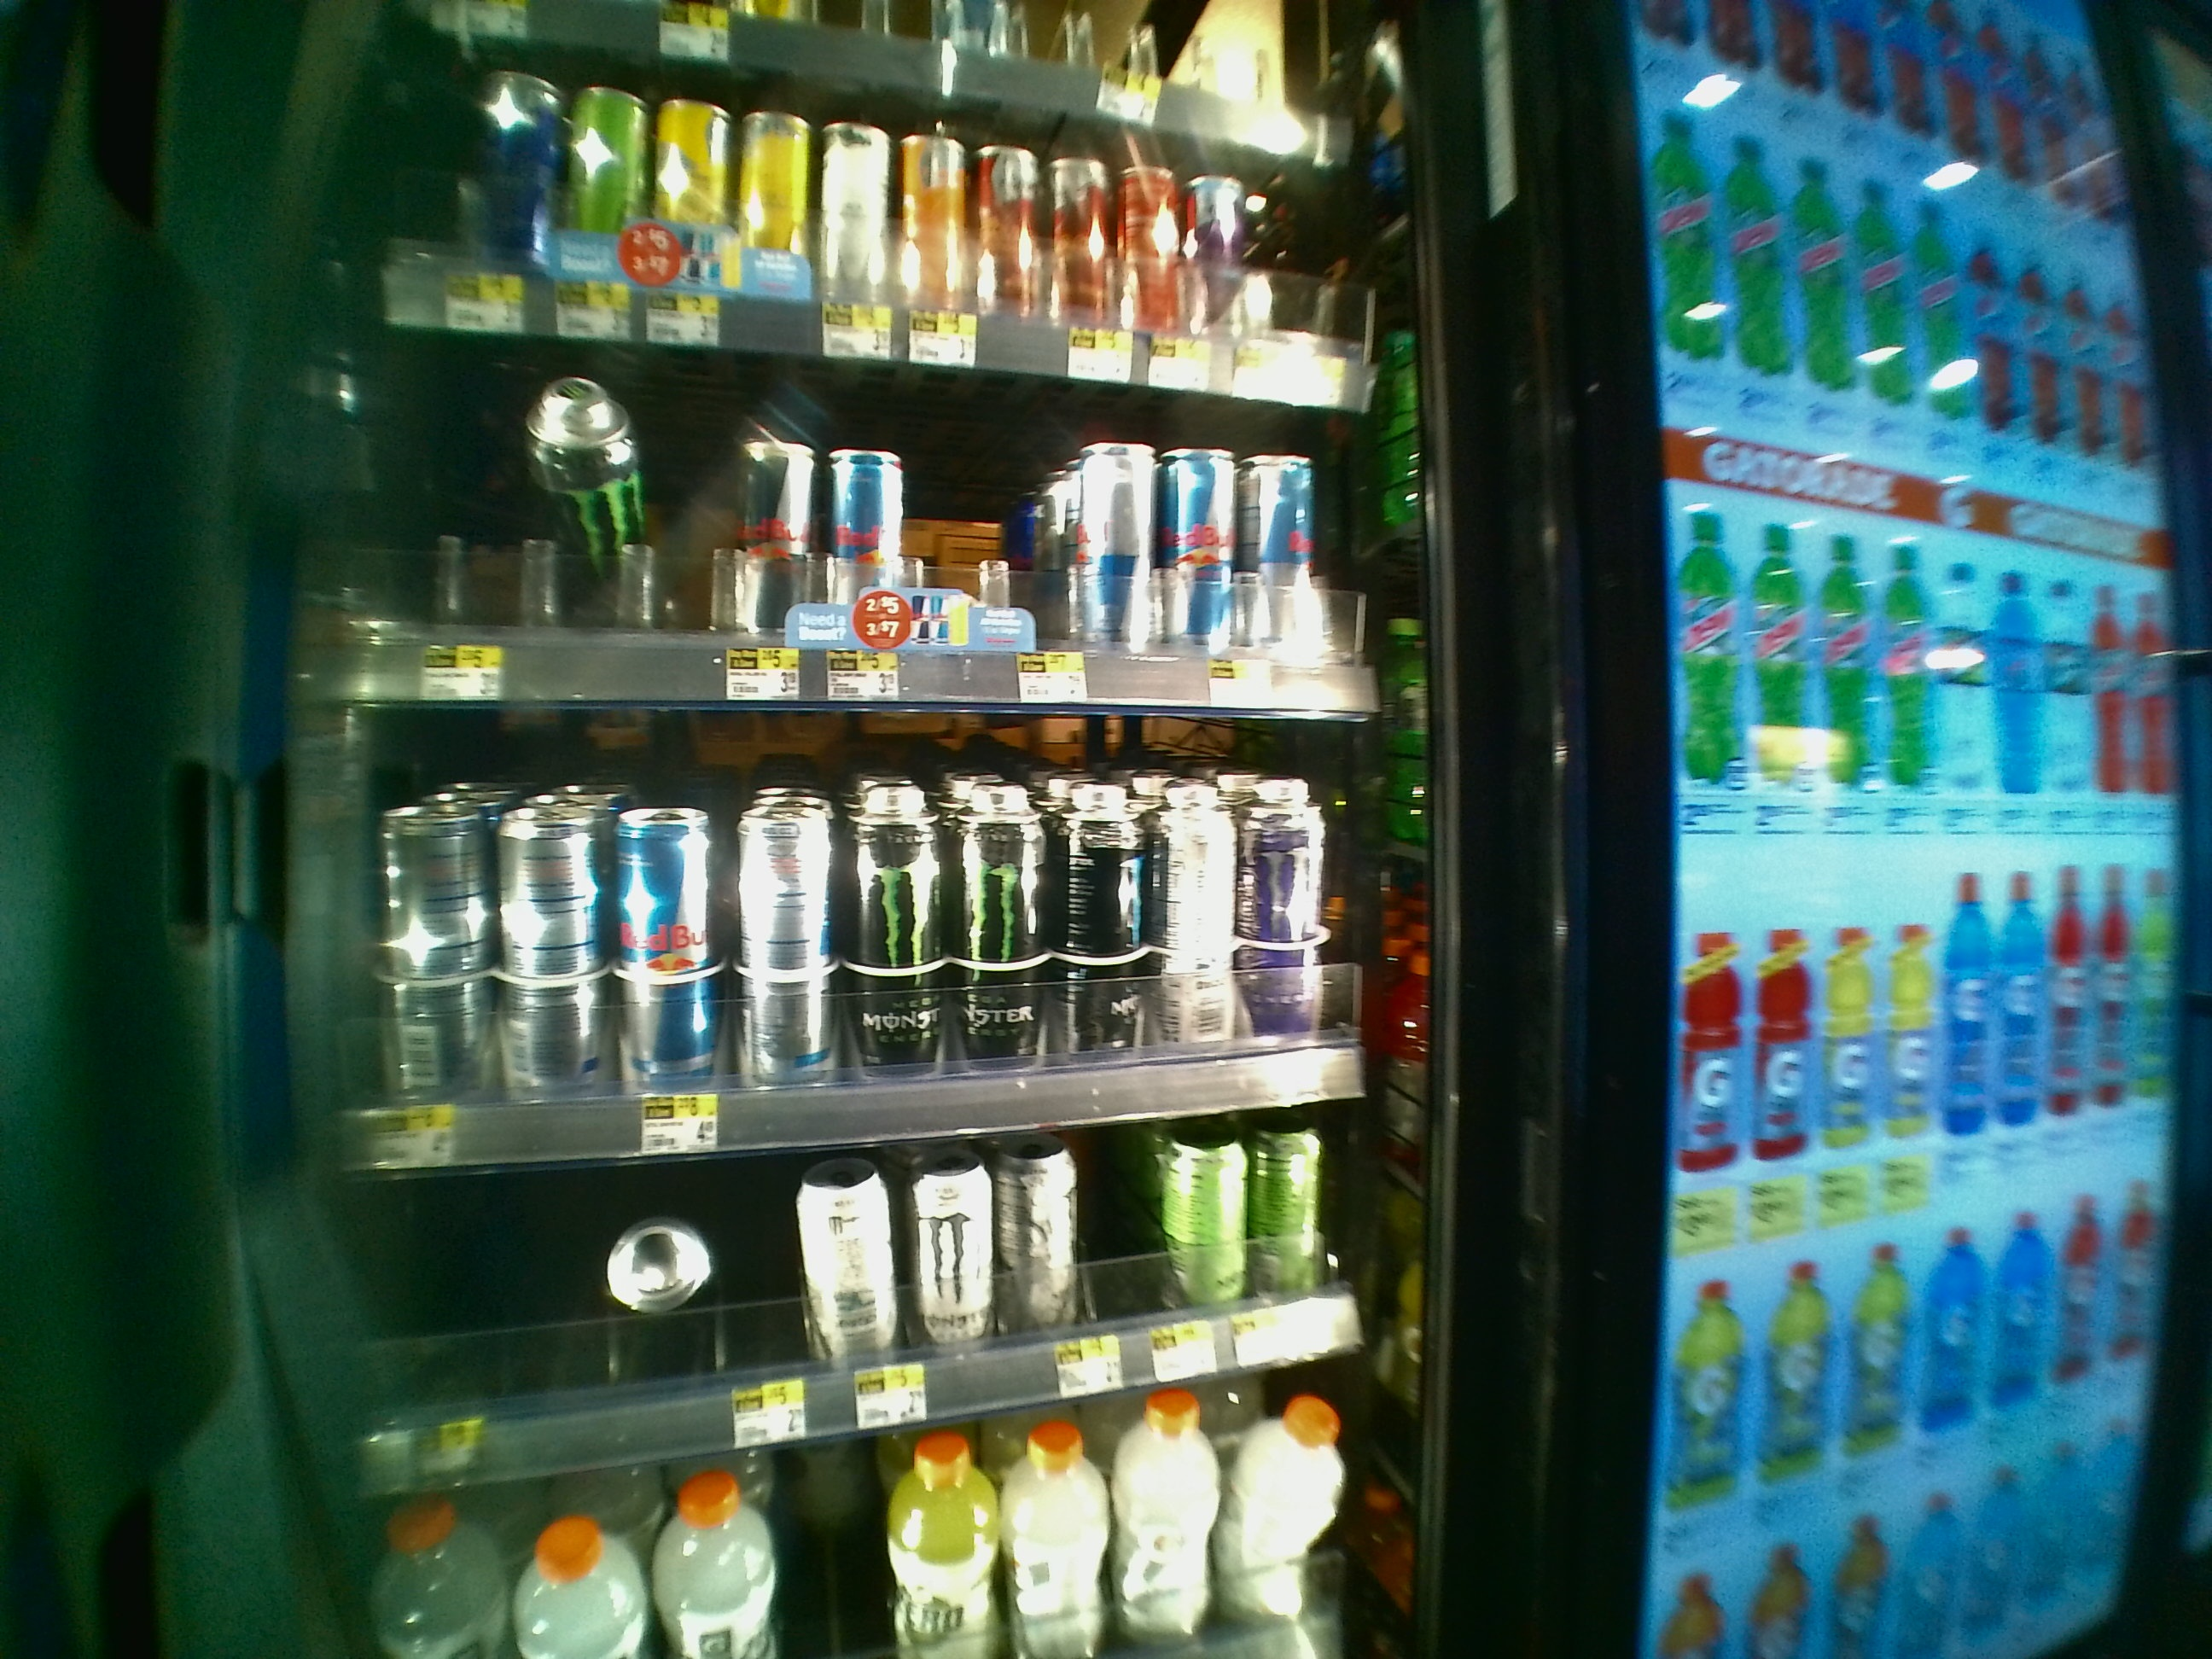shelf: (270, 701, 1449, 1150)
